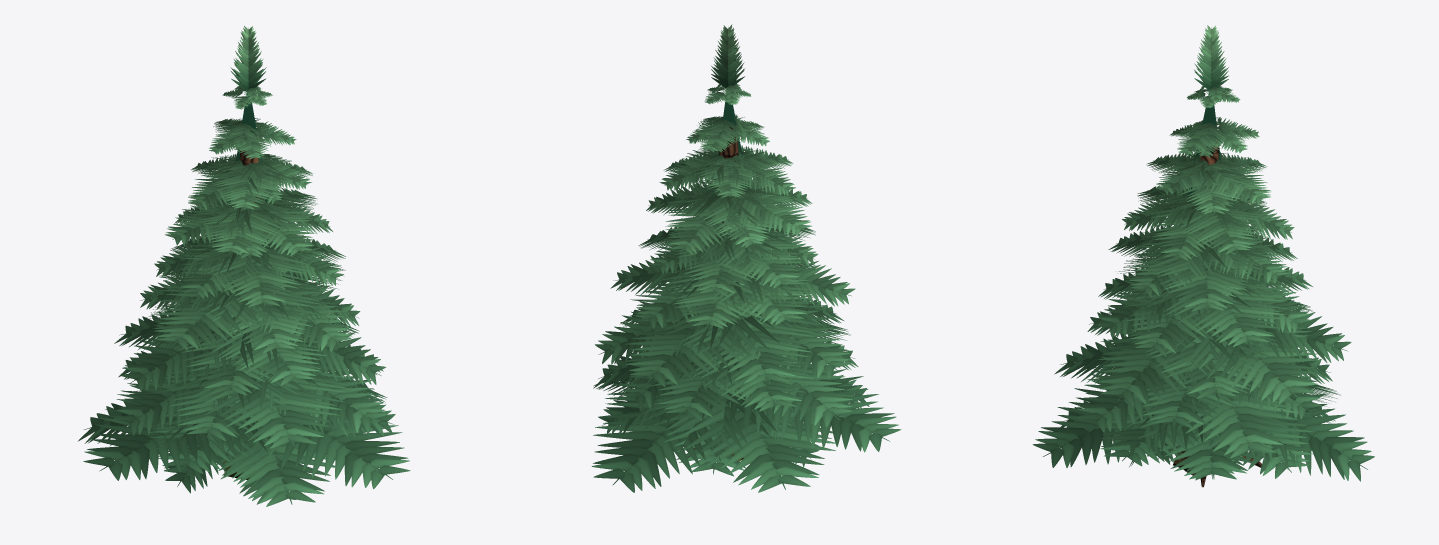
File: pine_lod1.gltf
3 renders of one model, left to right at view 1: azimuth 30°, elevation 25°; view 2: azimuth 150°, elevation 25°; view 3: azimuth 270°, elevation 25°, orthographic. The views are drawn at different scales.
Visible parts, largest first — view 1: Canopy_summer; view 2: Canopy_summer; view 3: Canopy_summer.
Part boxes in pixels (box(x1,y1,x2,y2)): Canopy_summer: box(78, 26, 410, 506); Canopy_summer: box(591, 24, 901, 492); Canopy_summer: box(1032, 25, 1374, 481).
Size of the model in its own units: 5.74 by 6.61 by 5.96.
Materials: 2 (2 with a texture image).
